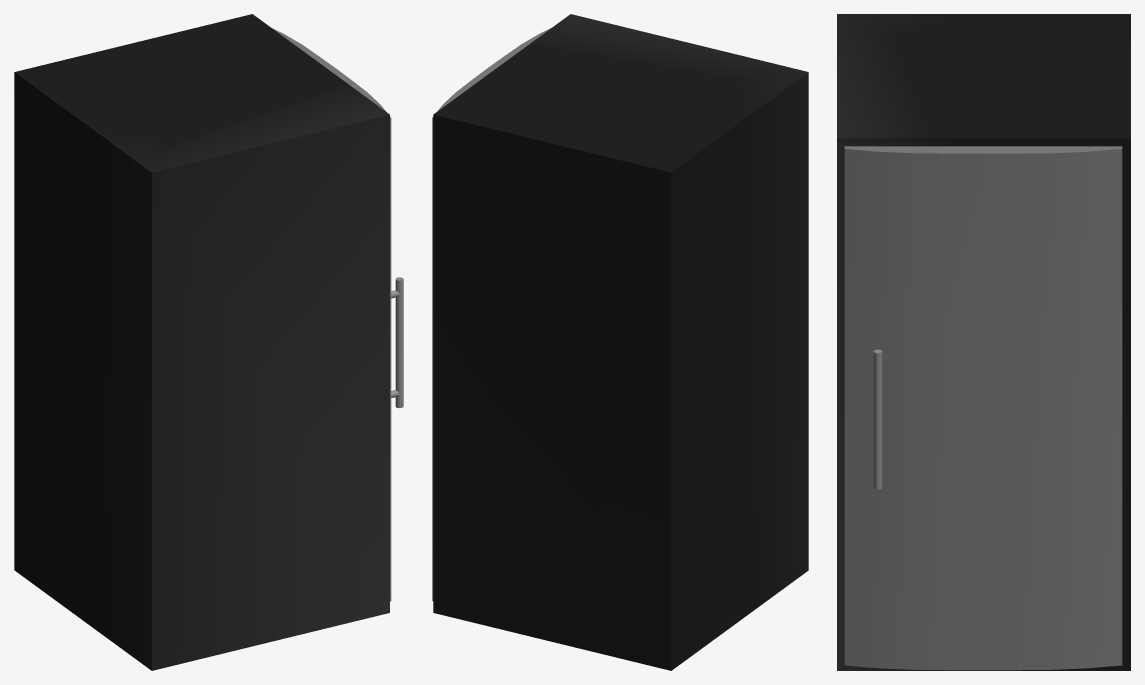
Rendered from Fridge.fbx.
3 views of the same model, side by side, from view 1: azimuth 30°, elevation 25°; view 2: azimuth 150°, elevation 25°; view 3: azimuth 270°, elevation 25° (orthographic). The views are drawn at different scales.
Visible parts, largest first — view 1: Fridge; view 2: Fridge; view 3: Fridge.
Boxes of the visible parts, <box> form: Fridge: <box>14,14,403,670</box>; Fridge: <box>432,14,808,670</box>; Fridge: <box>837,14,1130,670</box>.
Bounding box in the file's own units: 114 × 200 × 100.
